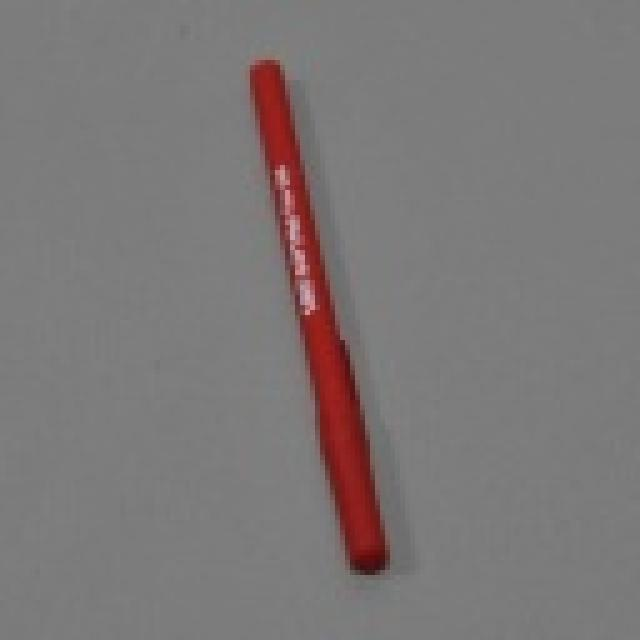pen: (246, 53, 404, 585)
